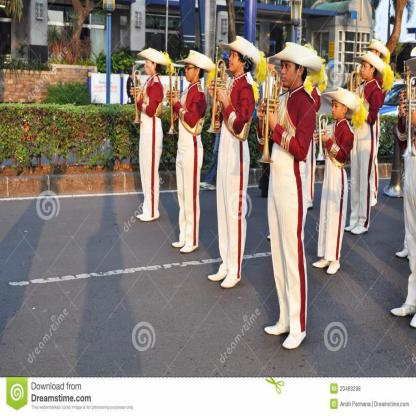face: (281, 60, 298, 88), (229, 51, 242, 72), (333, 99, 345, 120), (362, 60, 372, 80), (186, 64, 197, 82), (145, 59, 154, 74), (369, 49, 377, 64)
